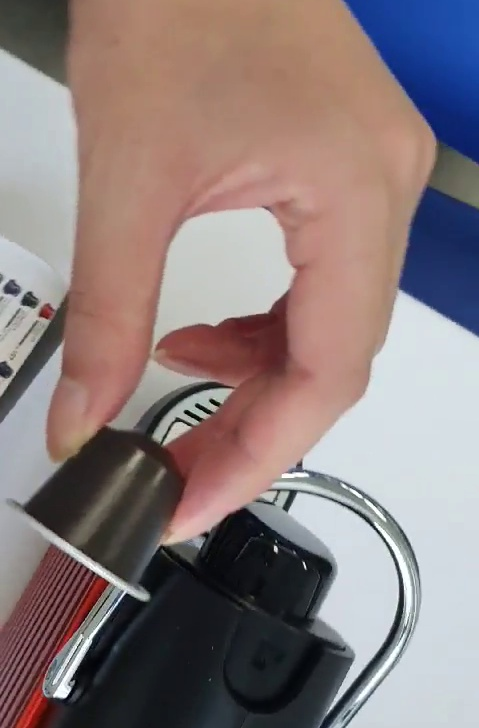capsule_4: (7, 417, 188, 605)
